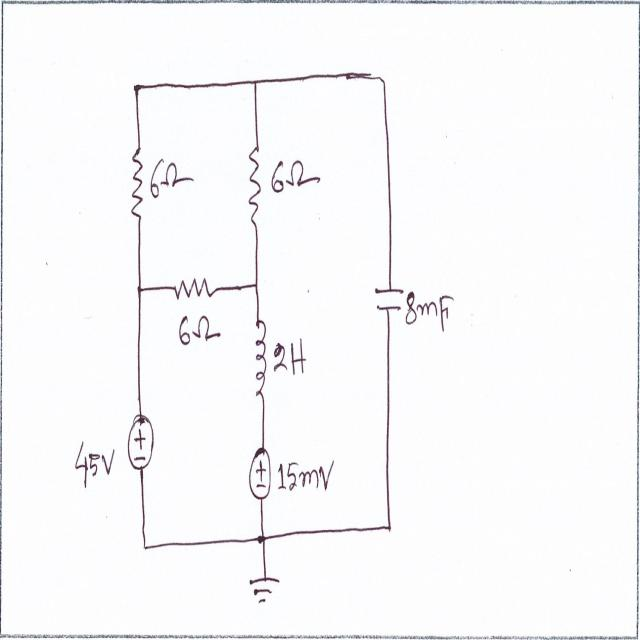capacitor: (368, 284, 406, 316)
ground: (247, 572, 283, 610)
inductor: (251, 314, 268, 401)
resistor: (174, 271, 218, 312), (246, 138, 263, 228), (130, 146, 146, 225)
voltage_source: (127, 410, 158, 473), (246, 445, 274, 503)
